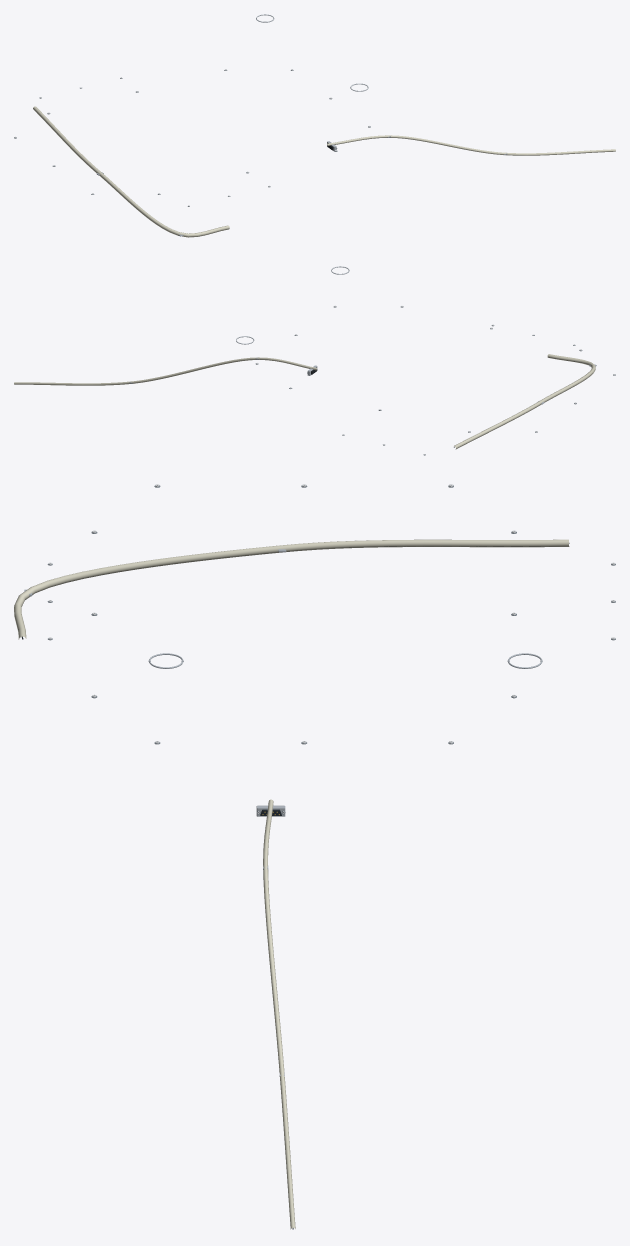
Rendered from viking-detail.glb.
3 views of the same model, one above another, from view 1: azimuth 30°, elevation 25°; view 2: azimuth 150°, elevation 25°; view 3: azimuth 270°, elevation 25° (orthographic). The views are drawn at different scales.
Visible parts, largest first — view 1: DETAIL_AVIONICS_White_cable_sleeve, DETAIL_SAMPLER_White_cable_sleeve; view 2: DETAIL_AVIONICS_White_cable_sleeve, DETAIL_SAMPLER_White_cable_sleeve; view 3: DETAIL_AVIONICS_White_cable_sleeve, DETAIL_SAMPLER_White_cable_sleeve.
Part boxes in pixels (box(x1,y1,x2,y2)): DETAIL_AVIONICS_White_cable_sleeve: box(33, 106, 229, 237); DETAIL_SAMPLER_White_cable_sleeve: box(327, 135, 615, 155); DETAIL_AVIONICS_White_cable_sleeve: box(454, 354, 595, 449); DETAIL_SAMPLER_White_cable_sleeve: box(14, 357, 317, 385); DETAIL_AVIONICS_White_cable_sleeve: box(14, 539, 569, 639); DETAIL_SAMPLER_White_cable_sleeve: box(263, 799, 295, 1229).
Size of the model in its own units: 2.23 by 0.6057 by 1.09.
